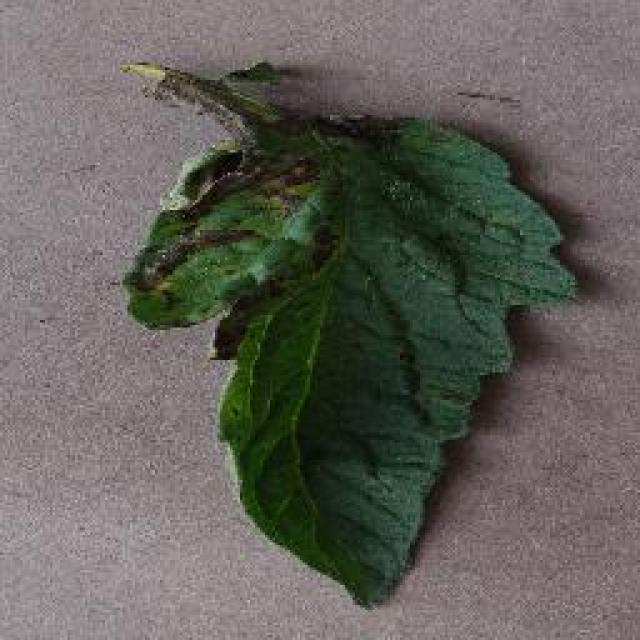Tomato___Early_blight: (122, 53, 586, 616)
